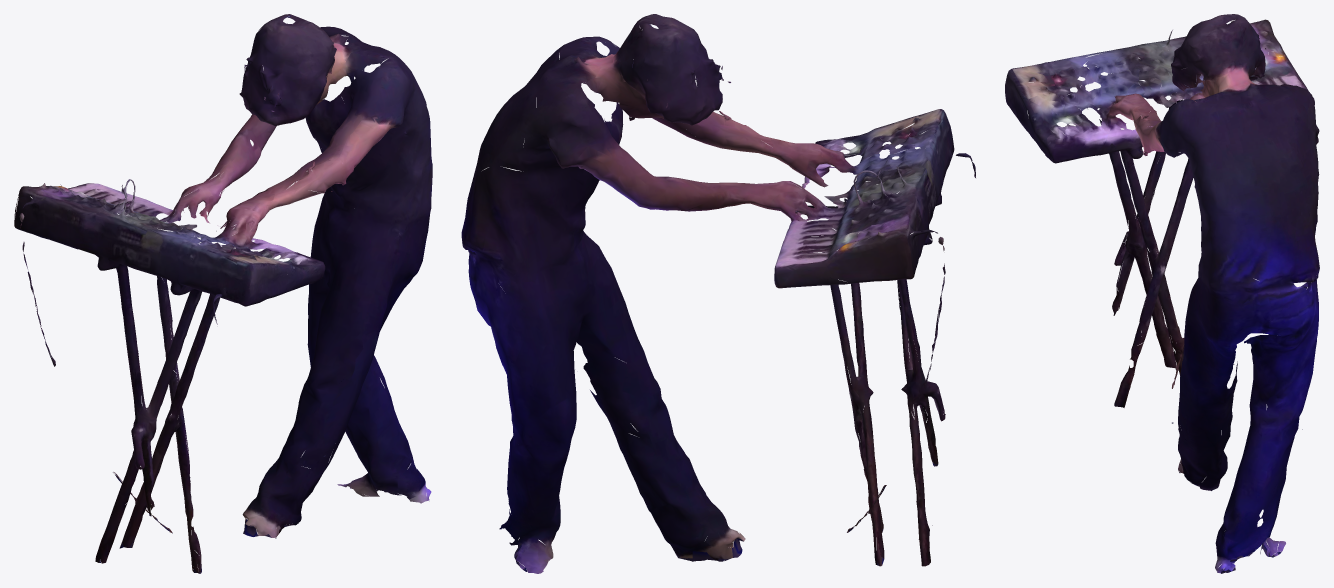
File: marti_opt.glb
The picture shows the model from 3 angles, left to right: view 1: azimuth 30°, elevation 25°; view 2: azimuth 150°, elevation 25°; view 3: azimuth 270°, elevation 25°; orthographic projection. The views are drawn at different scales.
Bounding box in the file's own units: 2.63 × 3.08 × 1.78.
Materials: 7 (7 with a texture image).
